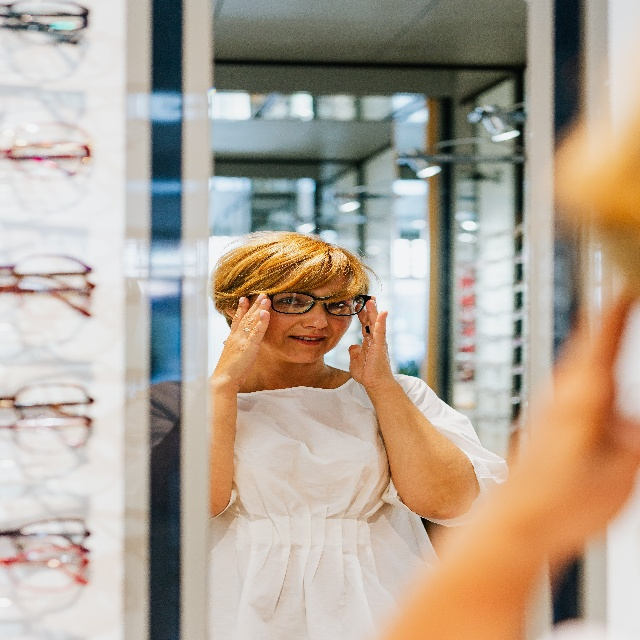Gafas: (267, 290, 371, 317)
Sin_guantes: (217, 293, 271, 389), (348, 295, 392, 391)
